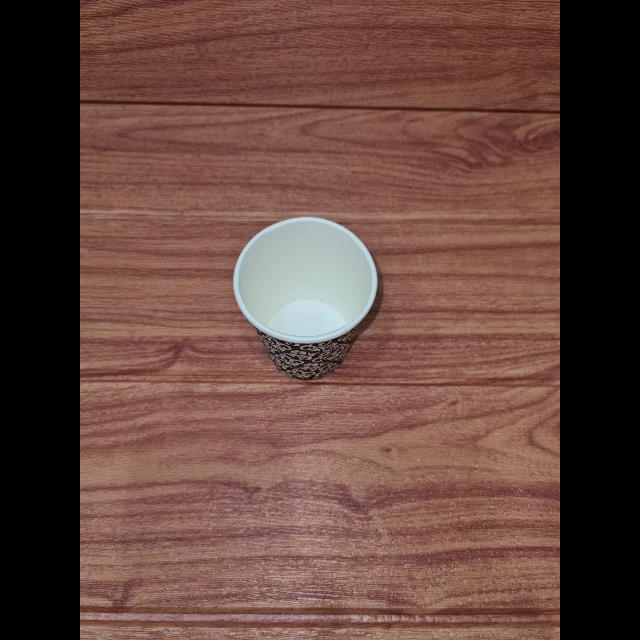trash: (230, 210, 382, 390)
